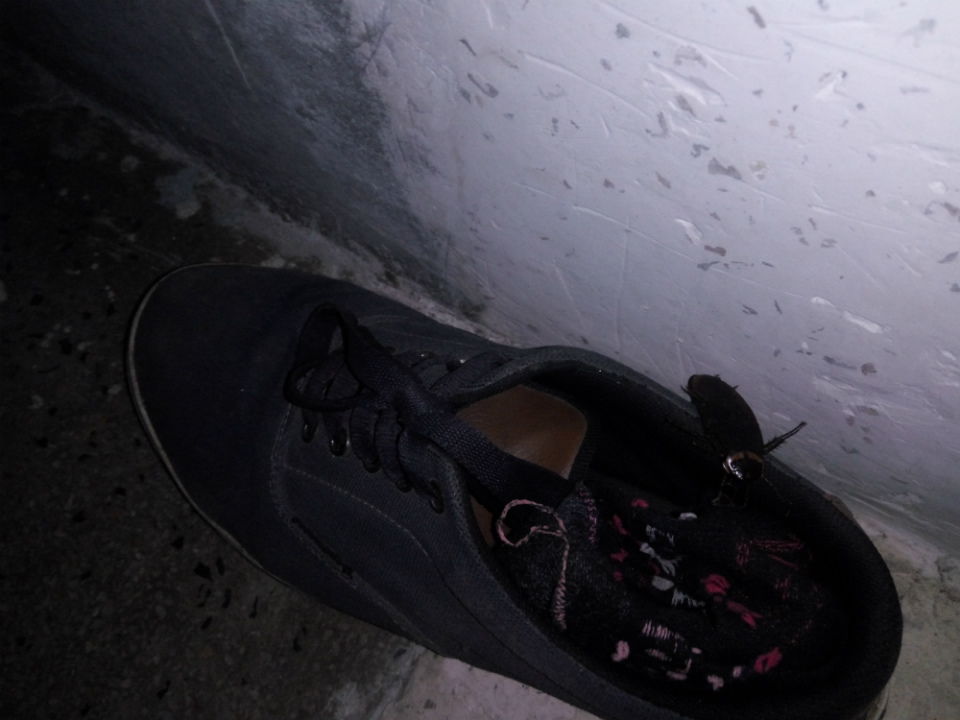cockroach: (638, 342, 833, 495)
